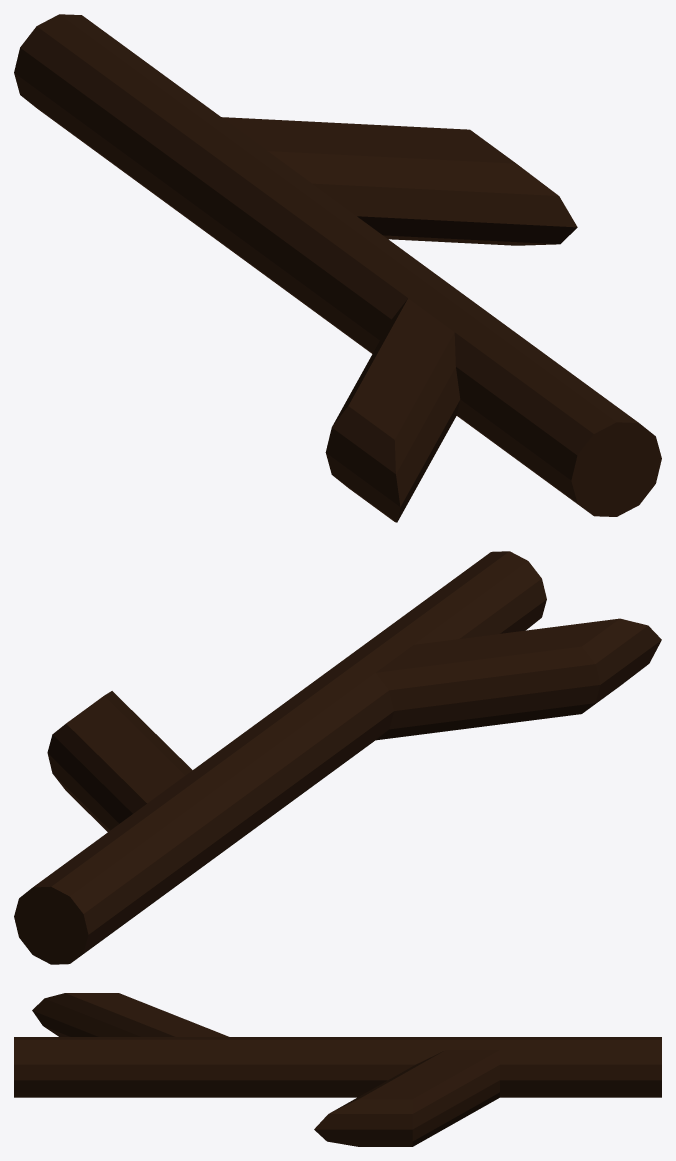
Rendered from Rama.fbx.
The picture shows the model from 3 angles, top to bottom: view 1: azimuth 30°, elevation 25°; view 2: azimuth 150°, elevation 25°; view 3: azimuth 270°, elevation 25°; orthographic projection. The views are drawn at different scales.
Parts seen in each view (by area): view 1: Cylinder001; view 2: Cylinder001; view 3: Cylinder001.
Part boxes in pixels (x1=…): Cylinder001: x1=14, y1=14, x2=661, y2=522; Cylinder001: x1=14, y1=551, x2=661, y2=964; Cylinder001: x1=14, y1=993, x2=661, y2=1146.
Size of the model in its own units: 53.49 by 11.55 by 123.
